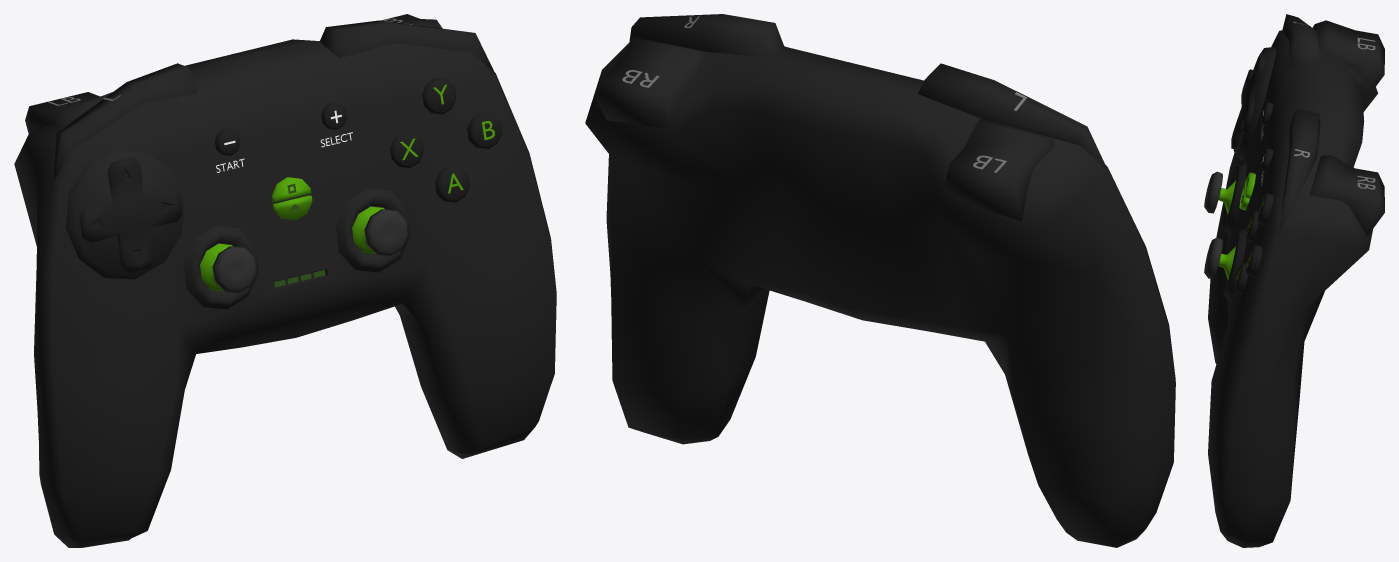
File: model_VideoGameController.glb
3 views of the same model, side by side, from view 1: azimuth 30°, elevation 25°; view 2: azimuth 150°, elevation 25°; view 3: azimuth 270°, elevation 25° (orthographic). The views are drawn at different scales.
Parts seen in each view (by area): view 1: Controller.Body_37, Controller.DPad_26, Controller.Sticks_27, Controller.Tops_36, Controller.Backs_4, Controller.Button.Middle_13, Controller.Button.Y_25, Controller.Button.A_7, Controller.Button.B_10, Controller.Button.X_22; view 2: Controller.Body_37, Controller.Backs_4, Controller.Tops_36; view 3: Controller.Body_37, Controller.Backs_4, Controller.Tops_36, Controller.Sticks_27, Controller.DPad_26, Controller.Button.B_10, Controller.Button.Middle_13, Controller.Button.Y_25, Controller.Button.A_7, Controller.Button.X_22.
Boxes of the visible parts, x1,y1,x2,y2 form: Controller.Body_37: (14,39,556,547); Controller.DPad_26: (66,148,184,279); Controller.Sticks_27: (183,188,410,309); Controller.Tops_36: (53,20,494,179); Controller.Backs_4: (25,14,442,133); Controller.Button.Middle_13: (271,177,312,220); Controller.Button.Y_25: (422,78,456,114); Controller.Button.A_7: (435,166,469,202); Controller.Button.B_10: (467,112,501,148); Controller.Button.X_22: (390,132,423,167); Controller.Body_37: (585,37,1175,547); Controller.Backs_4: (597,38,1054,221); Controller.Tops_36: (629,14,1107,170); Controller.Body_37: (1208,30,1378,547); Controller.Backs_4: (1310,20,1384,235); Controller.Tops_36: (1279,14,1320,233); Controller.Sticks_27: (1204,162,1246,301); Controller.DPad_26: (1231,47,1276,160); Controller.Button.B_10: (1245,245,1262,277); Controller.Button.Middle_13: (1239,172,1255,210); Controller.Button.Y_25: (1257,193,1273,225); Controller.Button.A_7: (1234,262,1247,295); Controller.Button.X_22: (1245,211,1258,242).
Bounding box in the file's own units: 0.3887 × 0.3118 × 0.1345.
